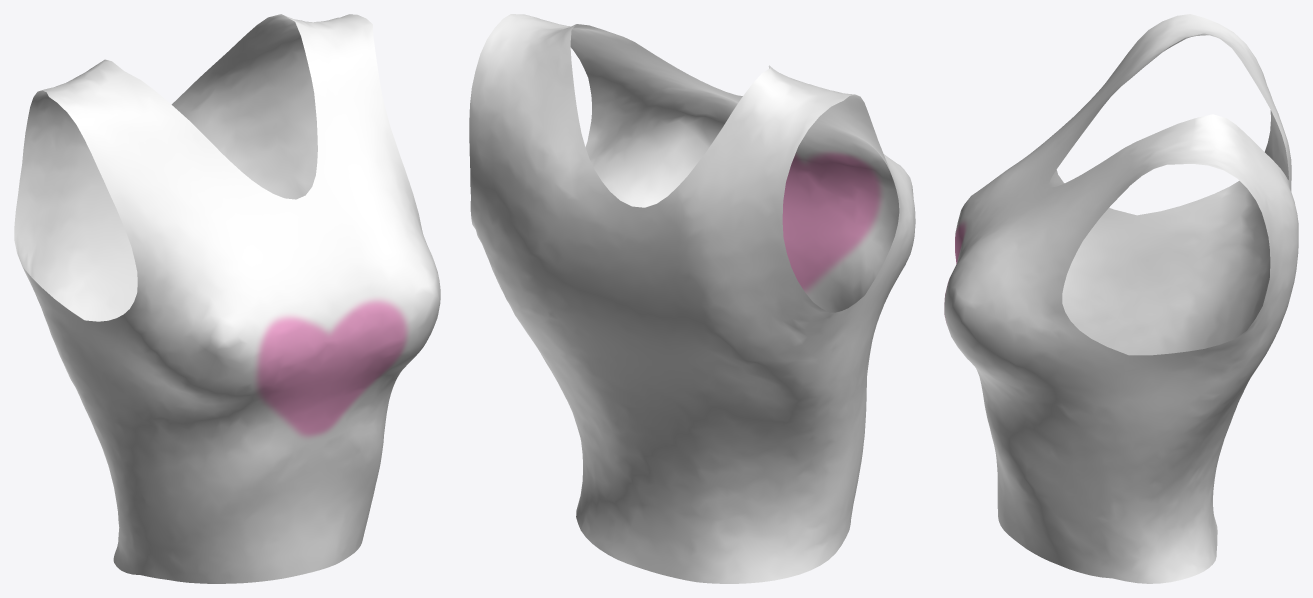
The model's file is 5f2ab0ab-792f-491d-8407-6fef842bcd67.glb.
3 renders of one model, left to right at view 1: azimuth 30°, elevation 25°; view 2: azimuth 150°, elevation 25°; view 3: azimuth 270°, elevation 25°, orthographic. The views are drawn at different scales.
Parts seen in each view (by area): view 1: Object_2; view 2: Object_2; view 3: Object_2.
Part boxes in pixels (left/top/right/bottom): Object_2: left=14, top=14, right=440, bottom=583; Object_2: left=469, top=14, right=915, bottom=583; Object_2: left=944, top=14, right=1298, bottom=583.
Size of the model in its own units: 0.593 by 0.845 by 0.5769.
Materials: 1 (1 with a texture image).
